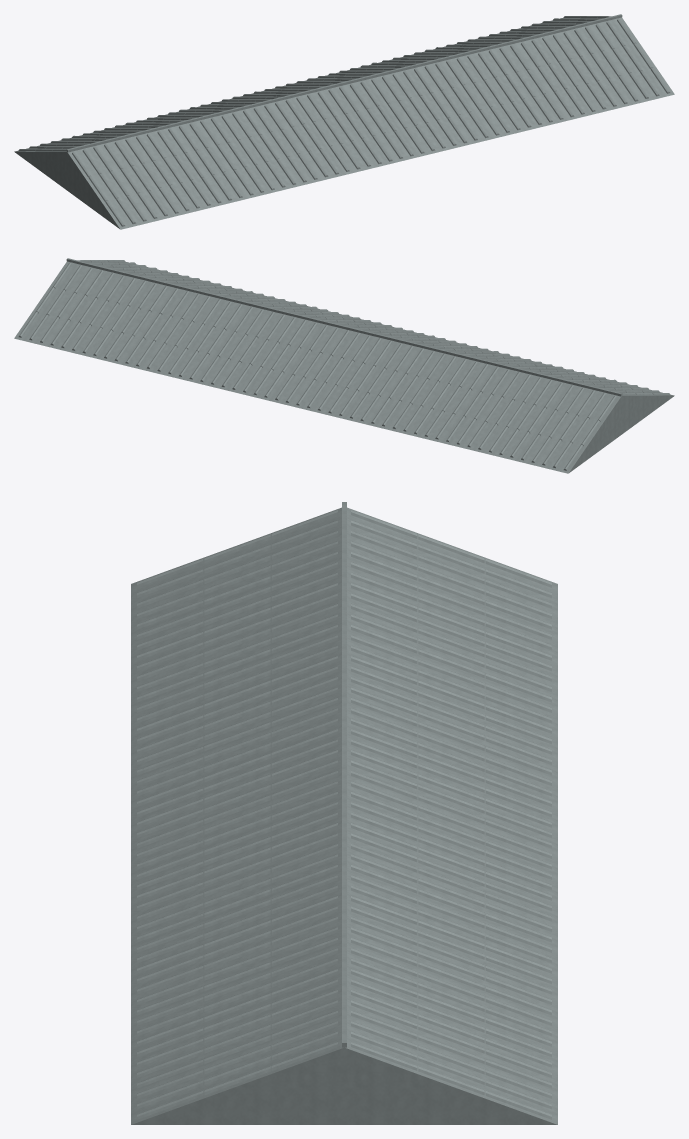
File: TC03-roof-medium.glb
3 views of the same model, one above another, from view 1: azimuth 30°, elevation 25°; view 2: azimuth 150°, elevation 25°; view 3: azimuth 270°, elevation 25° (orthographic). The views are drawn at different scales.
Visible parts, largest first — view 1: TC03_main_roof_original_medium; view 2: TC03_main_roof_original_medium; view 3: TC03_main_roof_original_medium.
Boxes of the visible parts, x1=… form: TC03_main_roof_original_medium: x1=14, y1=14, x2=674, y2=229; TC03_main_roof_original_medium: x1=14, y1=258, x2=674, y2=473; TC03_main_roof_original_medium: x1=131, y1=502, x2=557, y2=1124.
Size of the model in its own units: 18 by 1.27 by 6.
Materials: 1 (1 with a texture image).
